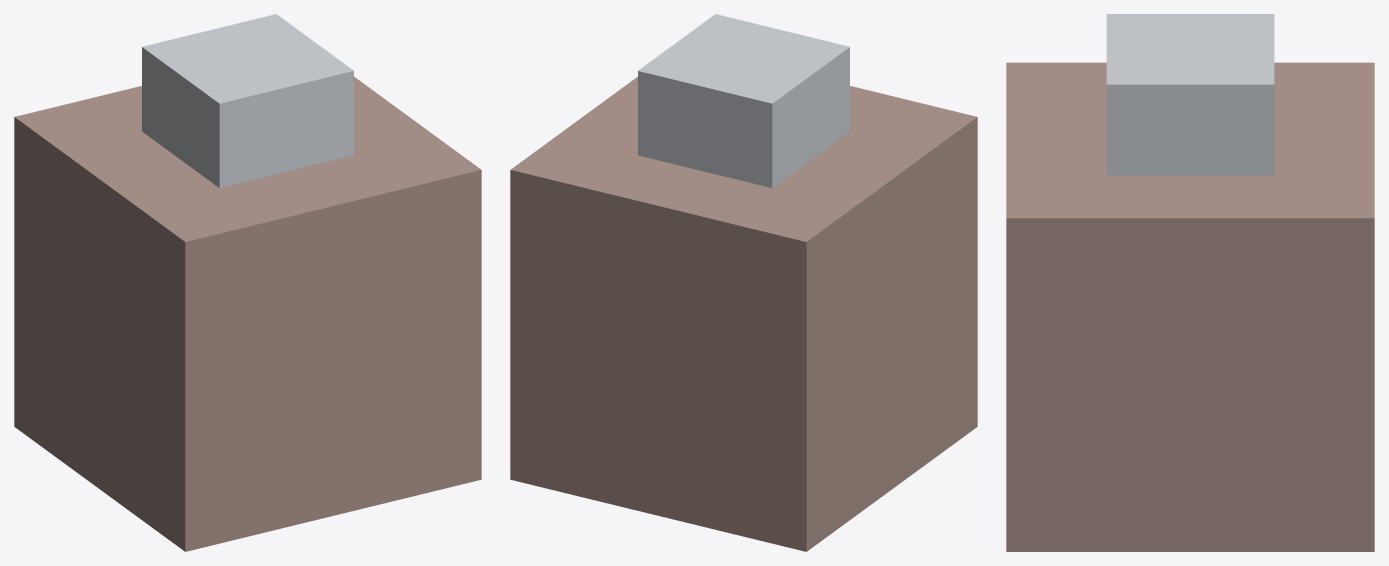
File: prop.glb
The picture shows the model from 3 angles, left to right: view 1: azimuth 30°, elevation 25°; view 2: azimuth 150°, elevation 25°; view 3: azimuth 270°, elevation 25°; orthographic projection. The views are drawn at different scales.
Visible parts, largest first — view 1: Cloth, Metal; view 2: Cloth, Metal; view 3: Cloth, Metal.
Boxes of the visible parts, left/top/right/bottom form: Cloth: left=14, top=76, right=481, bottom=551; Metal: left=142, top=14, right=353, bottom=188; Cloth: left=510, top=76, right=977, bottom=551; Metal: left=638, top=14, right=849, bottom=188; Cloth: left=1006, top=62, right=1374, bottom=551; Metal: left=1106, top=14, right=1274, bottom=175.
Bounding box in the file's own units: 0.22 × 0.28 × 0.22.
